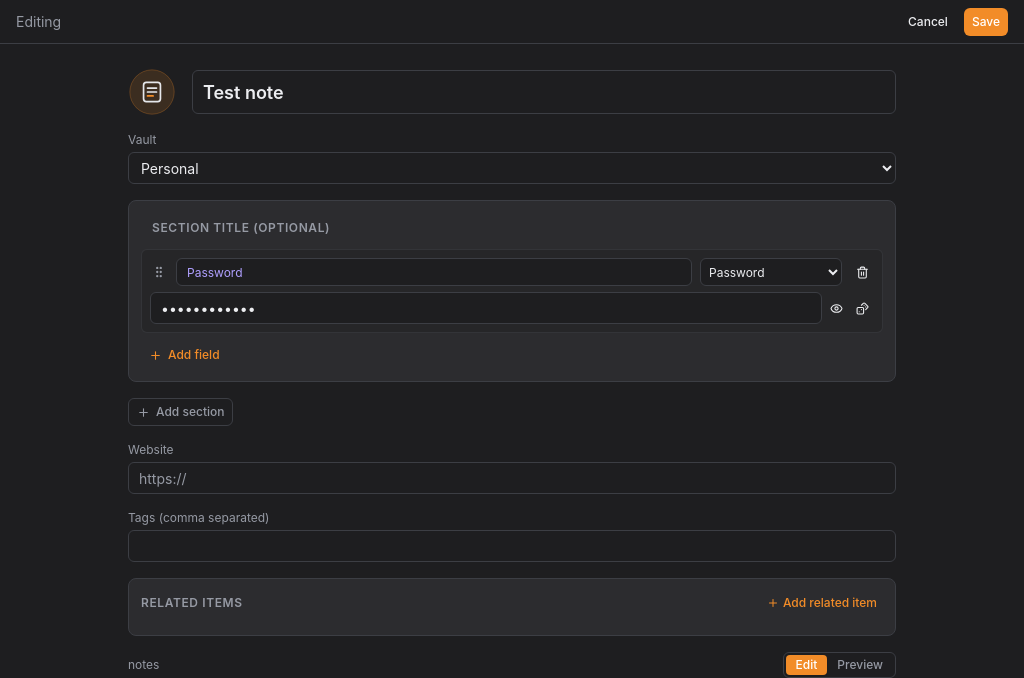
Item editor generator popover › remembers options from settings and persists changes
Click the button named "Generate password": (863,308) [852,296,874,320]
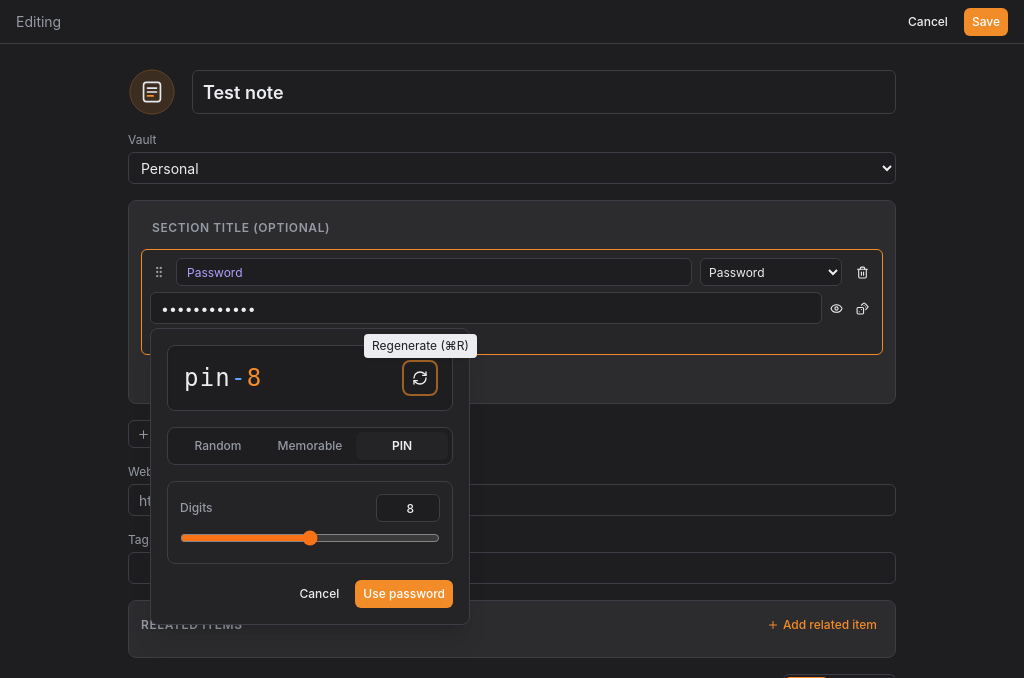
Result: the picture with test id "colored-password" reads "pin-8" at [184,362,262,394]
Replace the text in the number field named "Digits input" with "6": (408,508) [376,494,440,522]
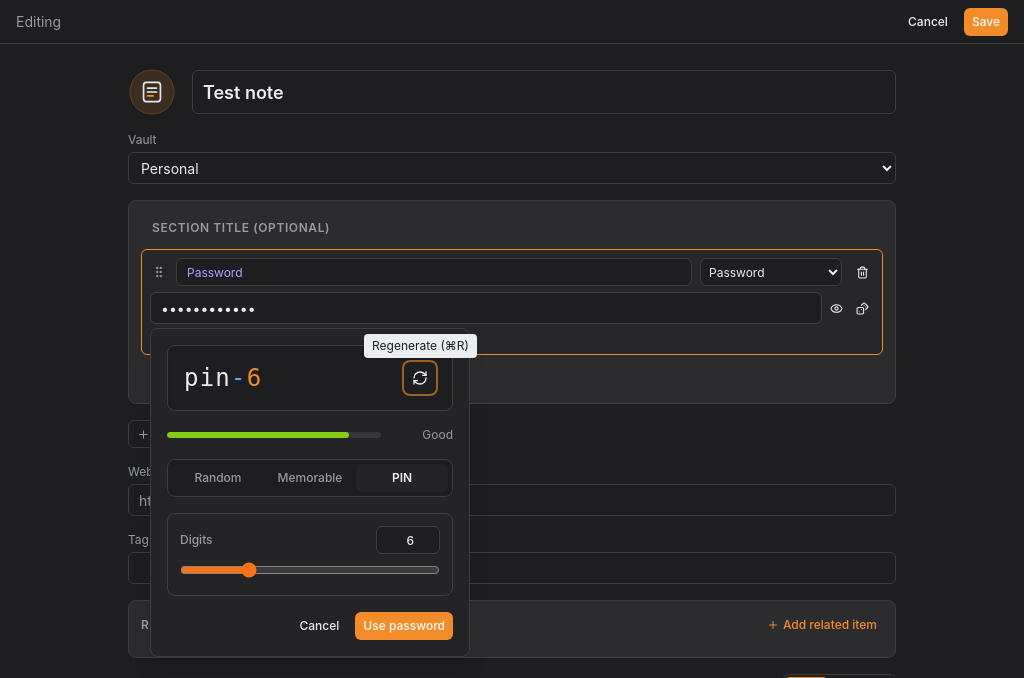
Result: the picture with test id "colored-password" reads "pin-6" at [184,362,262,394]
